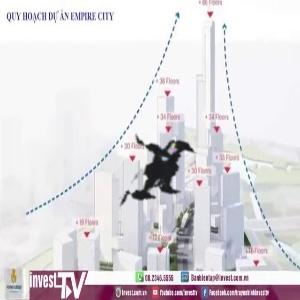drone: (38, 34, 295, 291)
